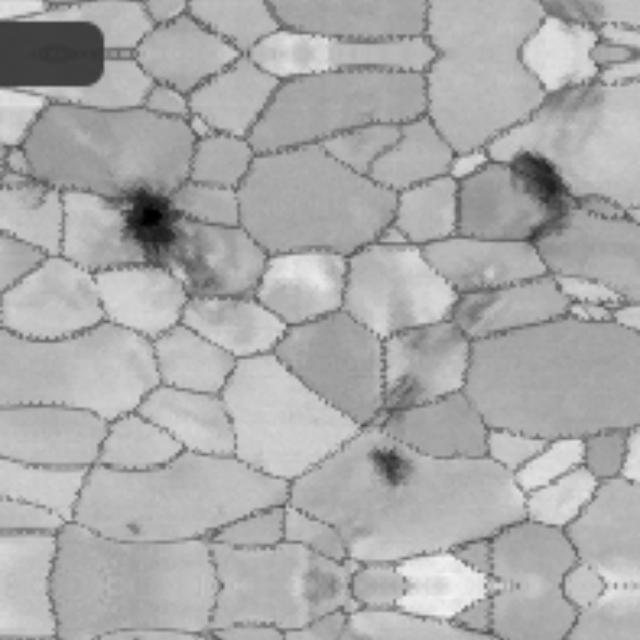good_void: (111, 183, 242, 295), (502, 152, 584, 246), (350, 373, 425, 436), (366, 436, 417, 499), (123, 518, 147, 542), (128, 632, 144, 640)
